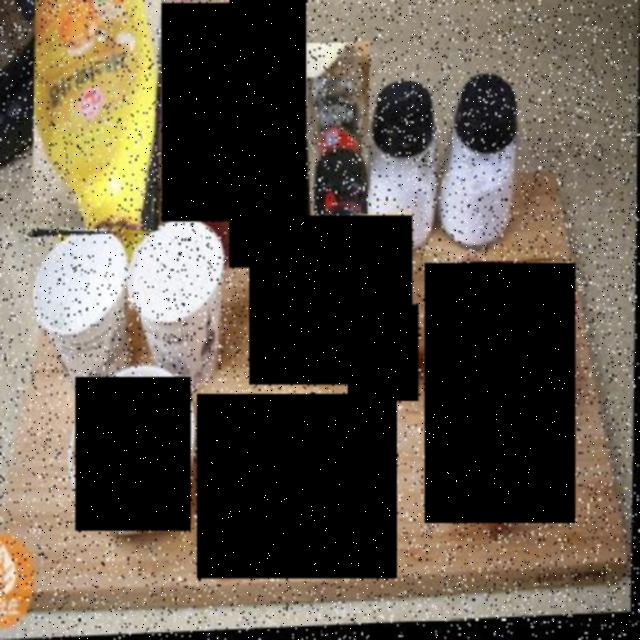Cheese: (198, 394, 396, 578)
Corn: (75, 378, 191, 532)
Egg: (347, 305, 419, 401)
Ketchup: (162, 4, 230, 221)
Potato: (250, 216, 412, 384)
Sausage: (424, 263, 576, 523)
mayonnaise: (230, 0, 307, 268)
